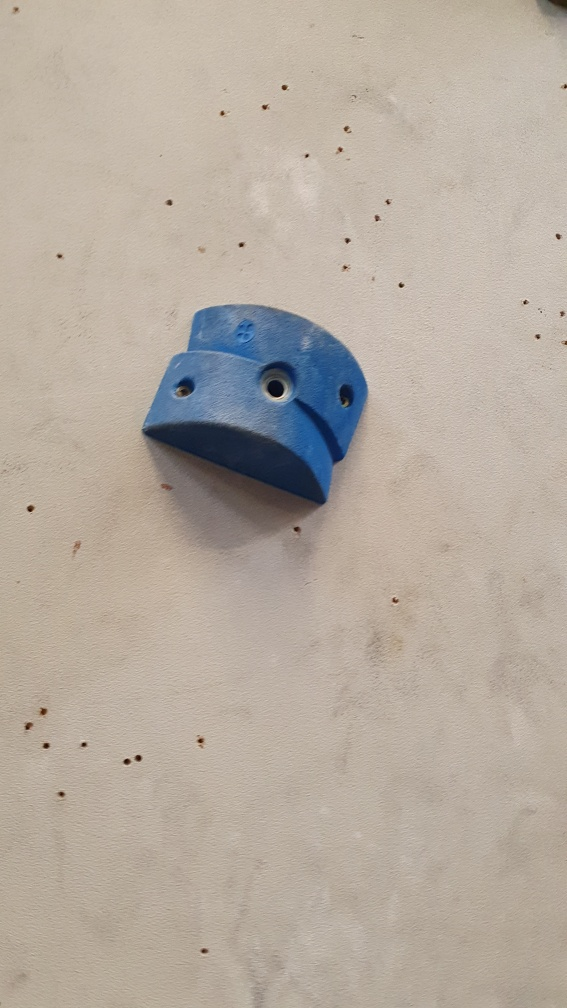Pinch: (142, 304, 371, 505)
